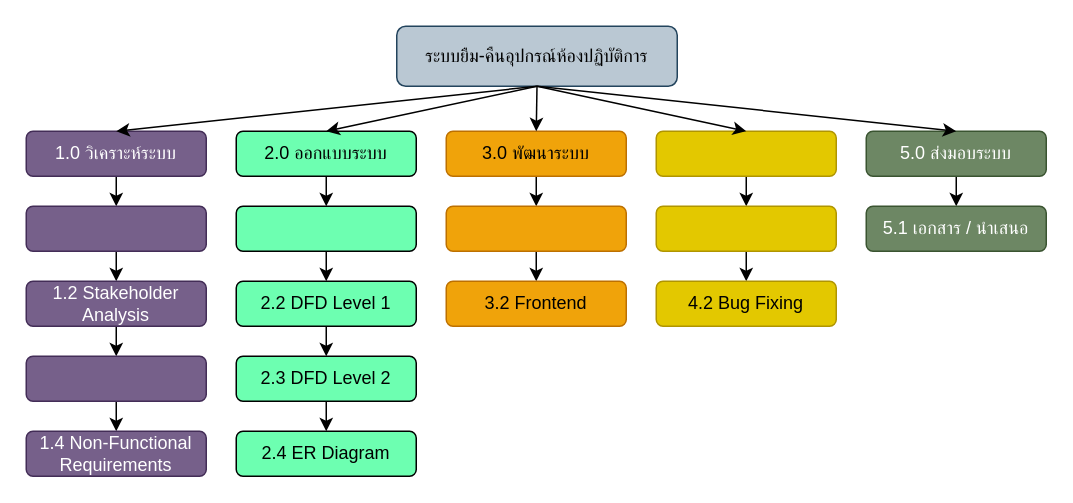
Image size: 1073x503. Some labels were removed from this diagram. The centre of each missing label's shape, as x and y in pixels:
"1.1 Problem Statement" belongs at (115,228).
"1.3 Functional Requirements" belongs at (115,378).
"2.1 Context Diagram" belongs at (325,228).
"3.1 Backend" belongs at (535,228).
"4.0 ทดสอบระบบ" belongs at (745,153).
"4.1 Testing" belongs at (745,228).
